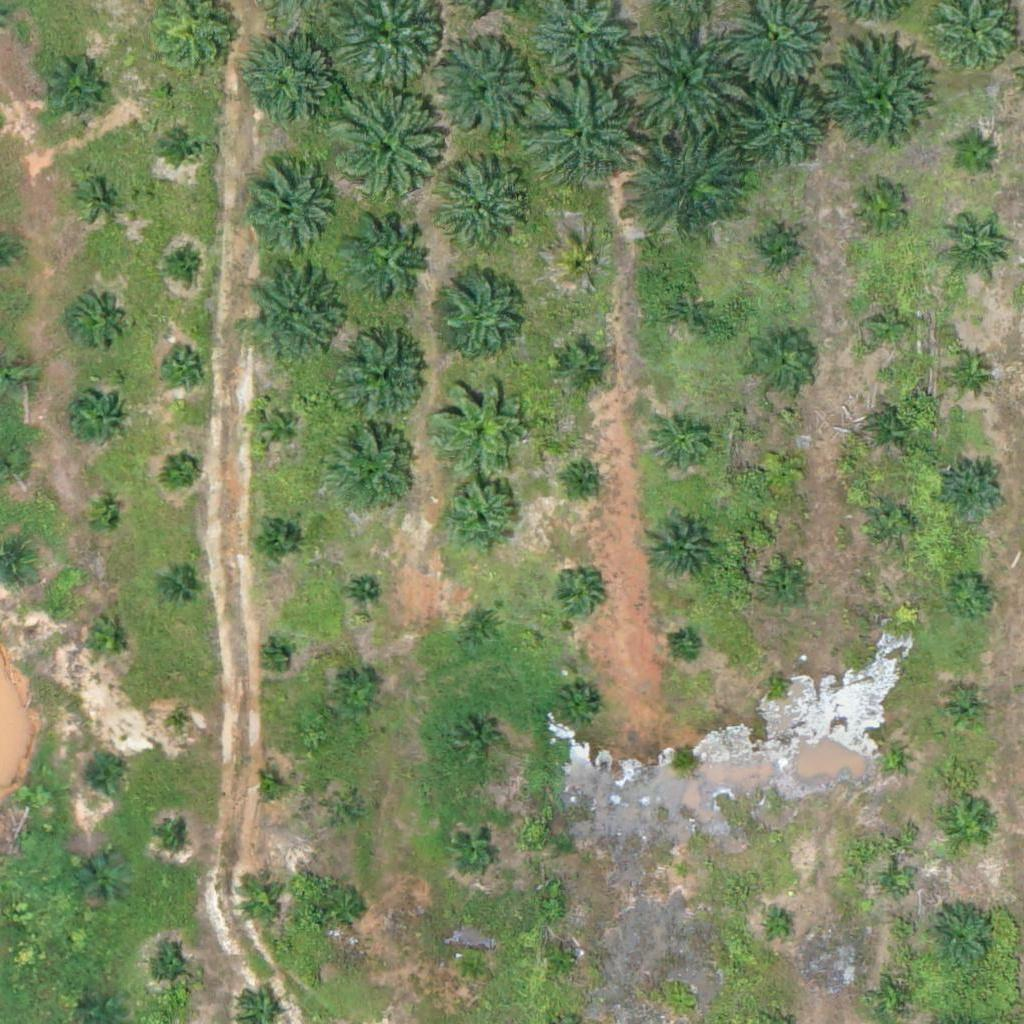Kelapa_Sawit: (621, 13, 746, 139), (629, 124, 754, 250), (322, 90, 447, 215), (820, 44, 933, 158), (529, 82, 642, 195), (432, 38, 532, 139), (243, 35, 343, 136), (240, 163, 340, 264), (430, 373, 530, 474), (248, 265, 348, 366), (443, 167, 531, 256), (437, 474, 525, 562), (739, 85, 827, 173), (328, 423, 416, 511), (340, 331, 428, 419), (347, 218, 435, 306), (437, 263, 524, 351), (922, 898, 997, 974), (643, 510, 718, 586), (40, 62, 103, 125), (941, 224, 1004, 287), (847, 178, 910, 241), (943, 460, 1006, 523), (858, 295, 921, 358), (751, 333, 813, 396), (651, 412, 713, 475), (67, 389, 129, 452), (655, 282, 717, 345), (324, 883, 374, 934), (868, 403, 918, 454), (70, 292, 120, 343), (944, 346, 994, 397), (869, 497, 919, 548), (748, 224, 798, 275), (757, 443, 807, 494), (945, 570, 995, 621), (237, 877, 287, 928), (83, 616, 133, 667), (558, 341, 608, 391), (944, 804, 994, 854), (949, 134, 999, 184), (763, 564, 813, 614), (940, 687, 990, 737), (145, 948, 195, 998), (552, 570, 602, 620), (555, 684, 605, 734), (452, 823, 502, 873), (452, 716, 502, 766), (459, 602, 509, 652), (332, 672, 382, 722), (251, 512, 301, 562), (79, 856, 129, 906), (559, 241, 609, 291), (254, 403, 304, 453), (159, 339, 209, 389), (83, 757, 121, 795), (170, 128, 208, 166), (453, 949, 491, 986), (327, 794, 365, 831), (86, 501, 124, 538), (164, 245, 201, 283), (82, 178, 119, 216), (166, 449, 203, 487), (546, 943, 583, 981), (162, 573, 199, 610), (672, 633, 697, 659), (884, 989, 909, 1015), (877, 744, 902, 769), (882, 872, 907, 897), (765, 915, 790, 940), (765, 671, 790, 696), (263, 643, 288, 668), (256, 773, 281, 798), (168, 712, 193, 737), (162, 824, 187, 849), (573, 469, 598, 494), (671, 860, 696, 885), (351, 579, 375, 604)
